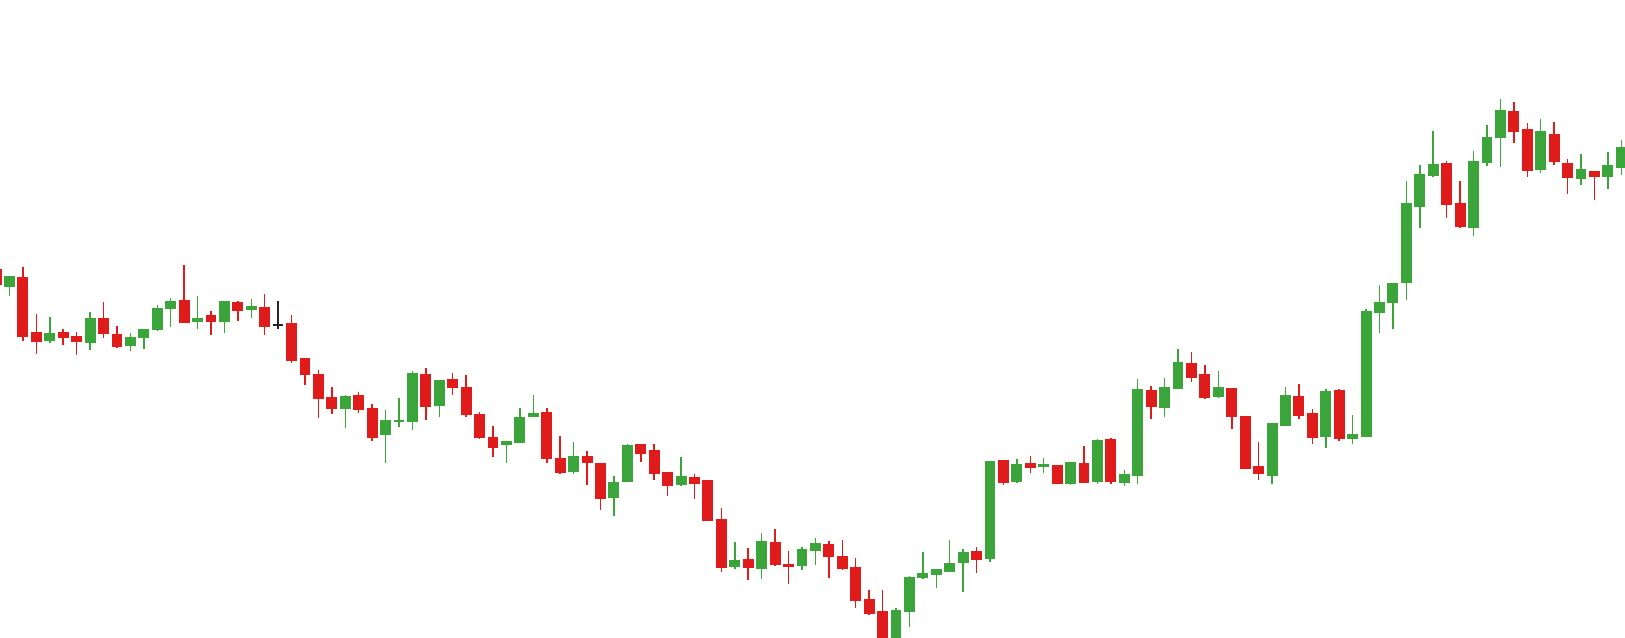sell: (97, 265, 192, 338)
